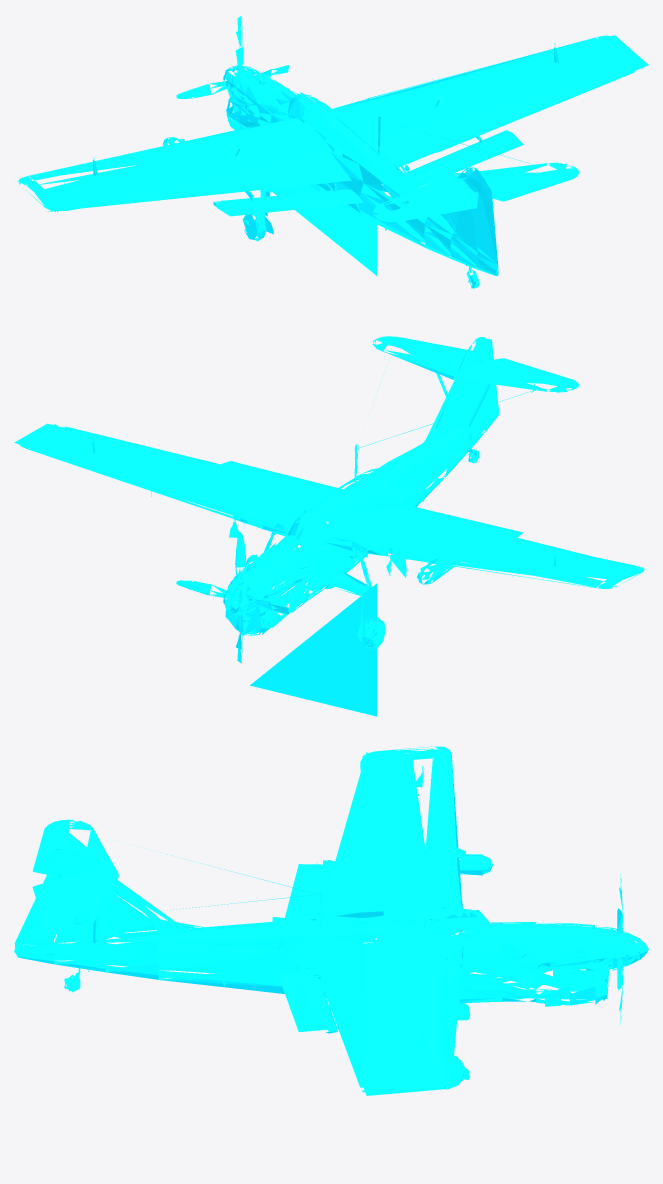
The model's file is PBAD008.glb.
The picture shows the model from 3 angles, top to bottom: view 1: azimuth 30°, elevation 25°; view 2: azimuth 150°, elevation 25°; view 3: azimuth 270°, elevation 25°; orthographic projection. The views are drawn at different scales.
Parts seen in each view (by area): view 1: misc; view 2: misc; view 3: misc.
Boxes of the visible parts, x1,y1,x2,y2 form: misc: [15, 16, 648, 288]; misc: [14, 336, 647, 716]; misc: [14, 746, 648, 1095].
Bounding box in the file's own units: 1.07 × 0.4136 × 0.8346.
